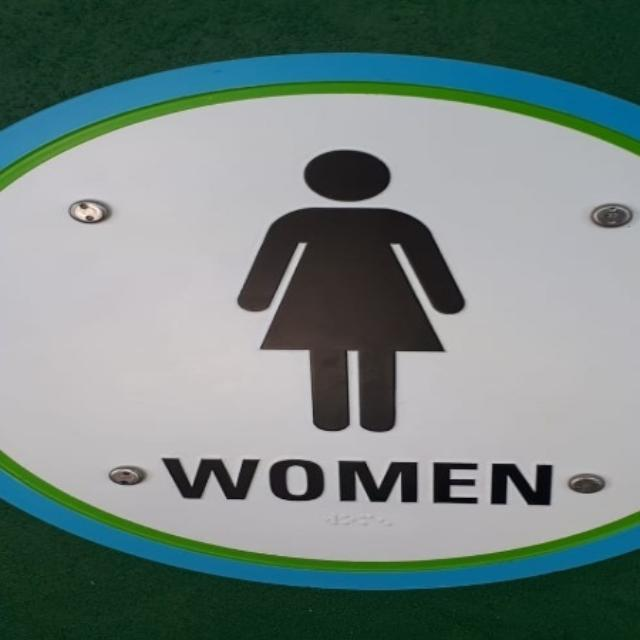wc nu: (0, 54, 639, 589)
